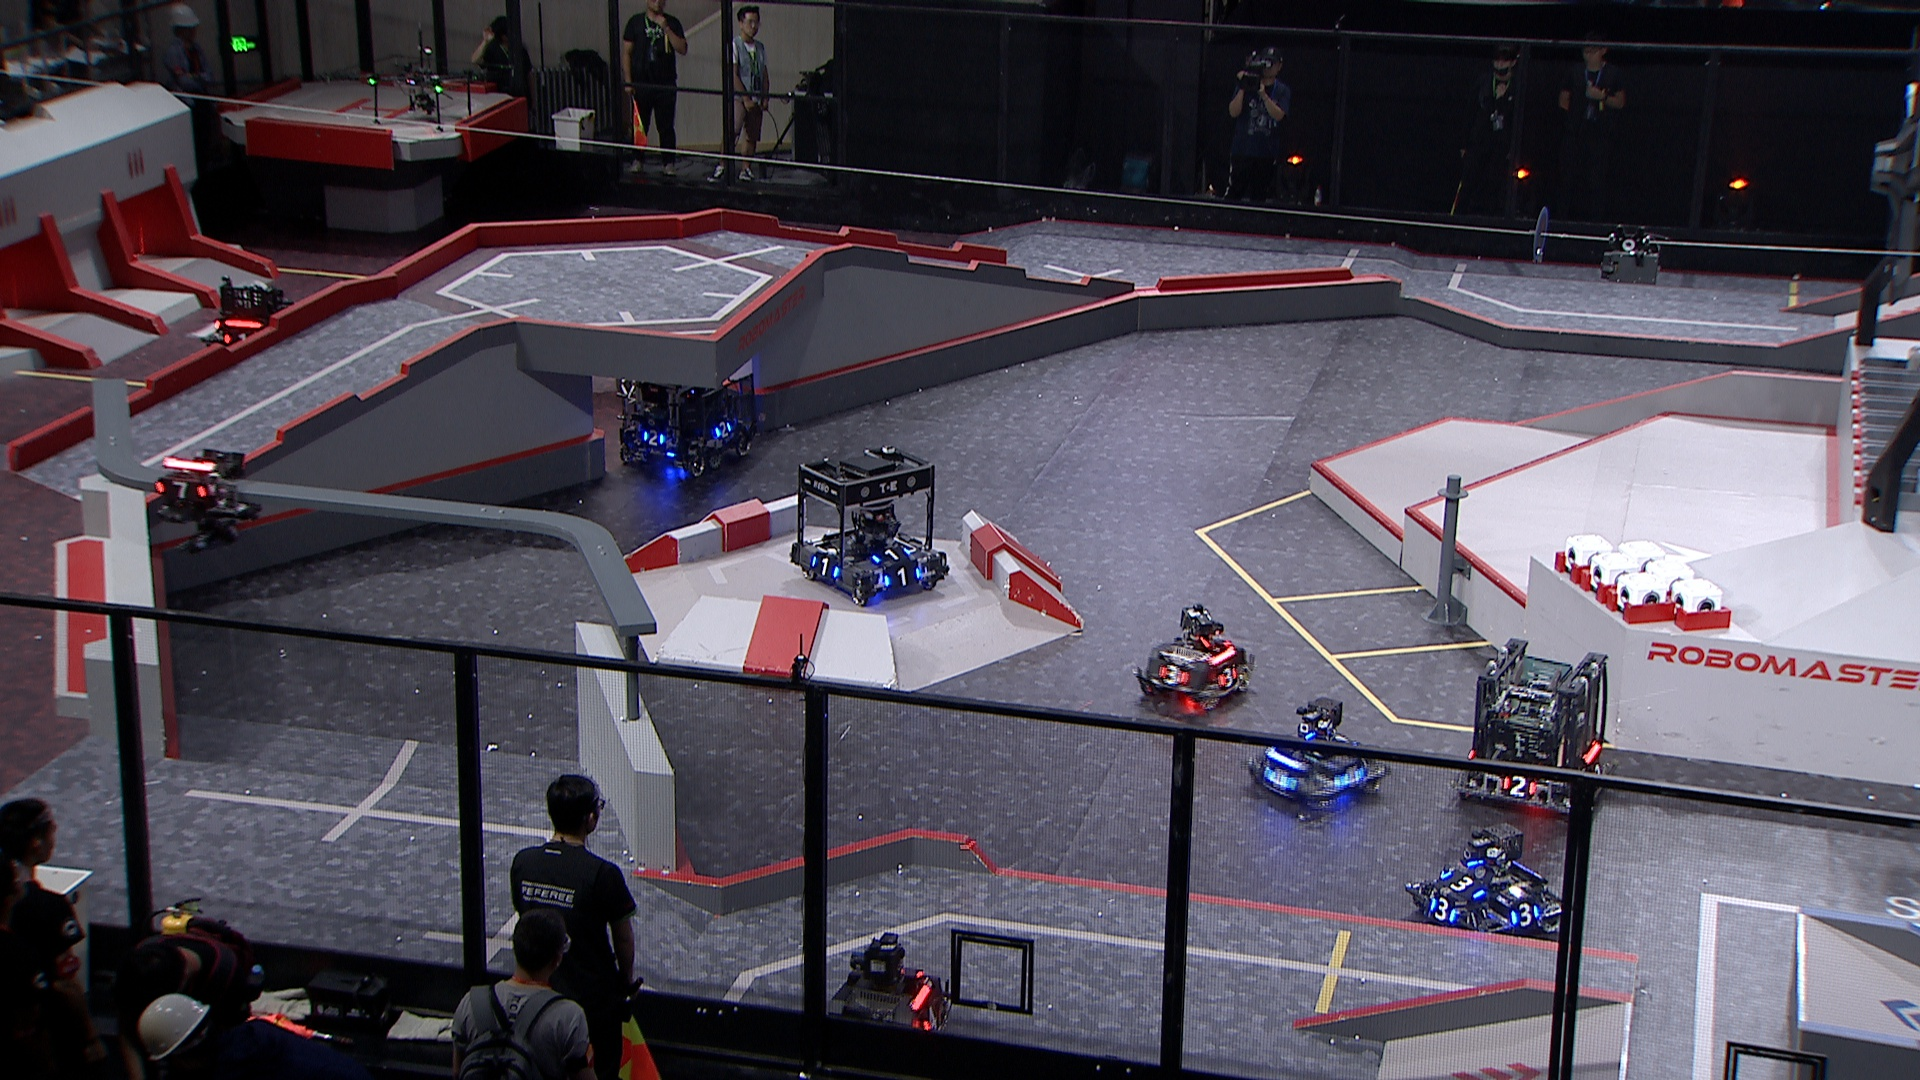armor: (156, 480, 207, 501), (1441, 870, 1480, 897), (808, 556, 844, 582), (1335, 767, 1366, 793), (1428, 895, 1455, 924), (1158, 662, 1188, 687), (873, 543, 909, 564), (1265, 766, 1292, 793), (884, 570, 922, 588), (1510, 902, 1538, 927), (1501, 778, 1534, 796), (922, 1002, 939, 1033), (1589, 760, 1609, 785), (1218, 665, 1240, 687), (641, 431, 665, 450), (225, 332, 251, 348), (713, 419, 733, 439)
car: (1449, 636, 1614, 822), (789, 439, 948, 605), (609, 338, 760, 477), (1408, 815, 1564, 942), (1247, 698, 1390, 812), (827, 931, 956, 1044), (1131, 600, 1253, 713), (204, 276, 297, 371)
watcher: (150, 443, 262, 553)
